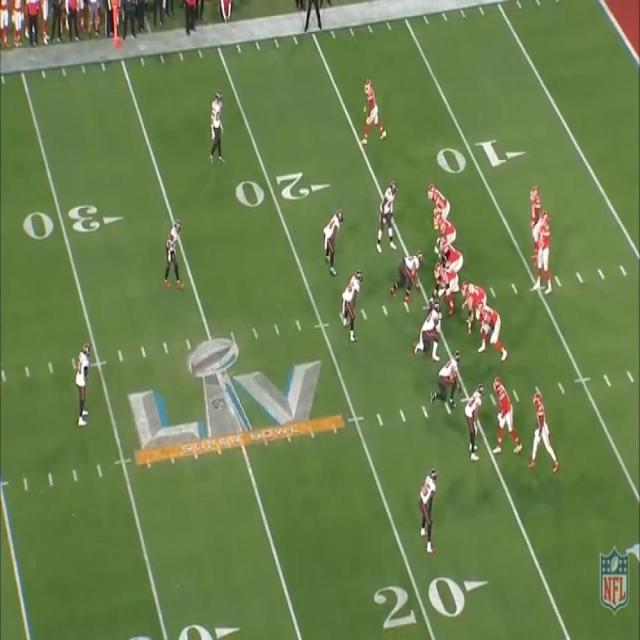center: (434, 262, 457, 314)
db: (75, 344, 92, 419), (420, 468, 436, 546), (210, 90, 224, 160), (167, 221, 182, 281)
lb: (341, 269, 362, 342), (325, 209, 341, 276)
qb: (540, 210, 556, 286)
skill: (494, 380, 517, 456), (532, 390, 554, 466), (466, 382, 482, 462), (363, 77, 381, 137), (425, 181, 449, 207), (530, 184, 540, 232)
